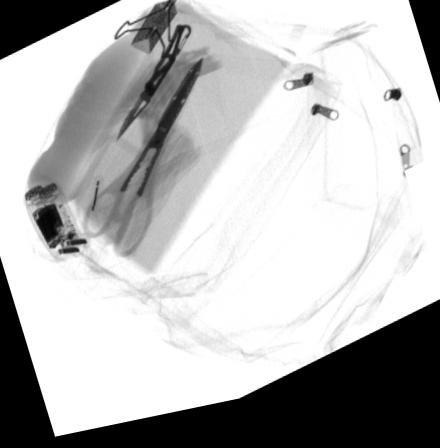Knife: (116, 30, 193, 148)
Scissors: (82, 62, 204, 261)
